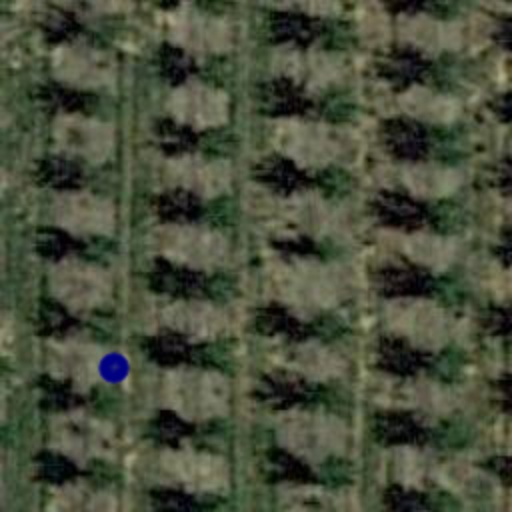circle: (92, 346, 136, 390)
